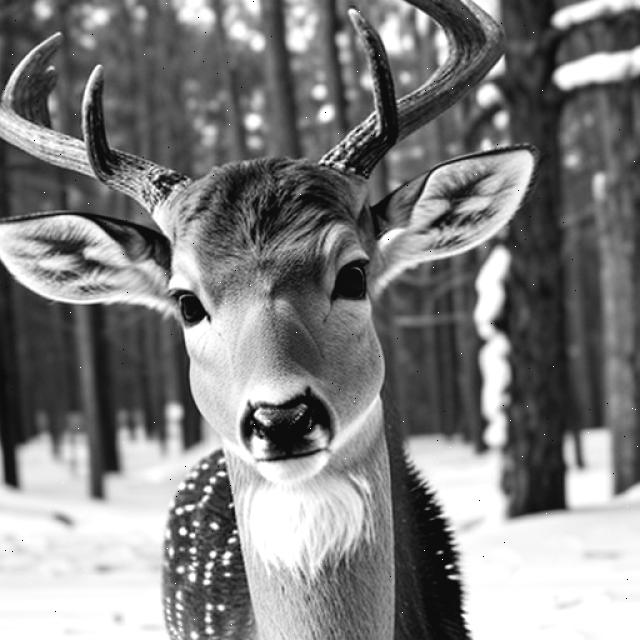deer: (2, 0, 554, 640)
